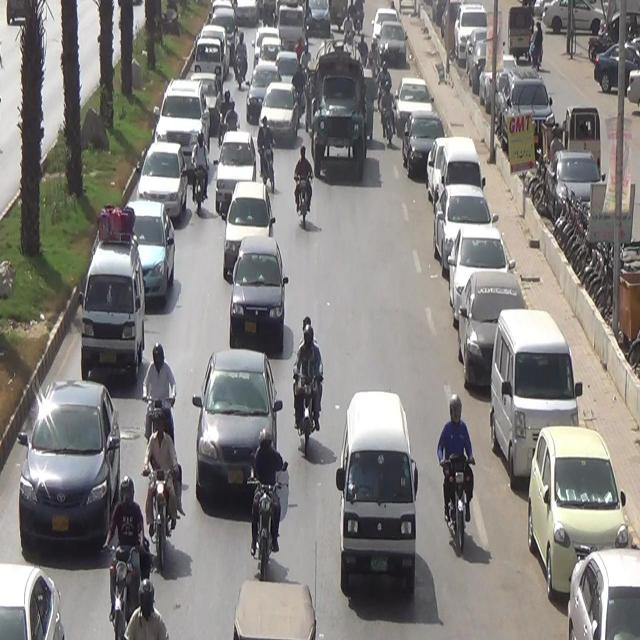car: (15, 368, 119, 569), (332, 397, 428, 600), (192, 350, 284, 522), (78, 213, 145, 392), (222, 248, 295, 357), (127, 134, 193, 230), (125, 198, 175, 319), (216, 187, 280, 267), (160, 76, 215, 162), (218, 123, 259, 213), (261, 81, 295, 148), (193, 24, 221, 82)
motorbike: (440, 385, 491, 588), (143, 406, 191, 583), (104, 465, 146, 640), (244, 421, 286, 588), (295, 317, 329, 479), (142, 334, 180, 440), (288, 138, 320, 244), (187, 139, 212, 217), (257, 120, 277, 200)
truck: (311, 42, 379, 206)
